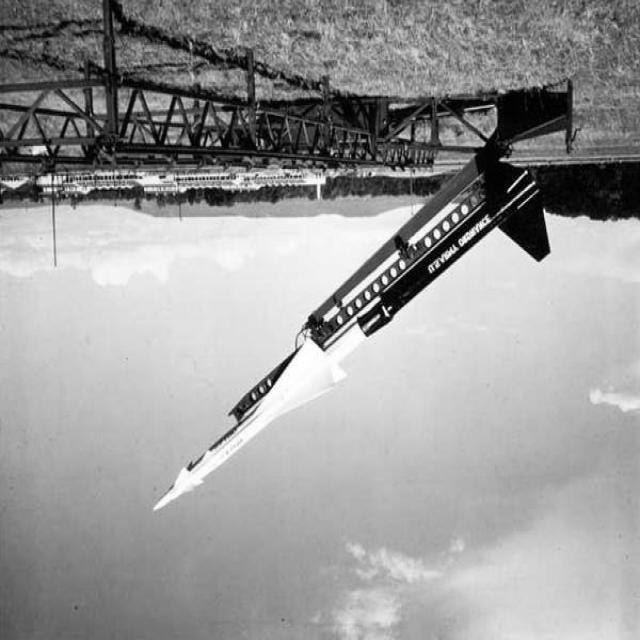missile: (150, 417, 272, 519)
